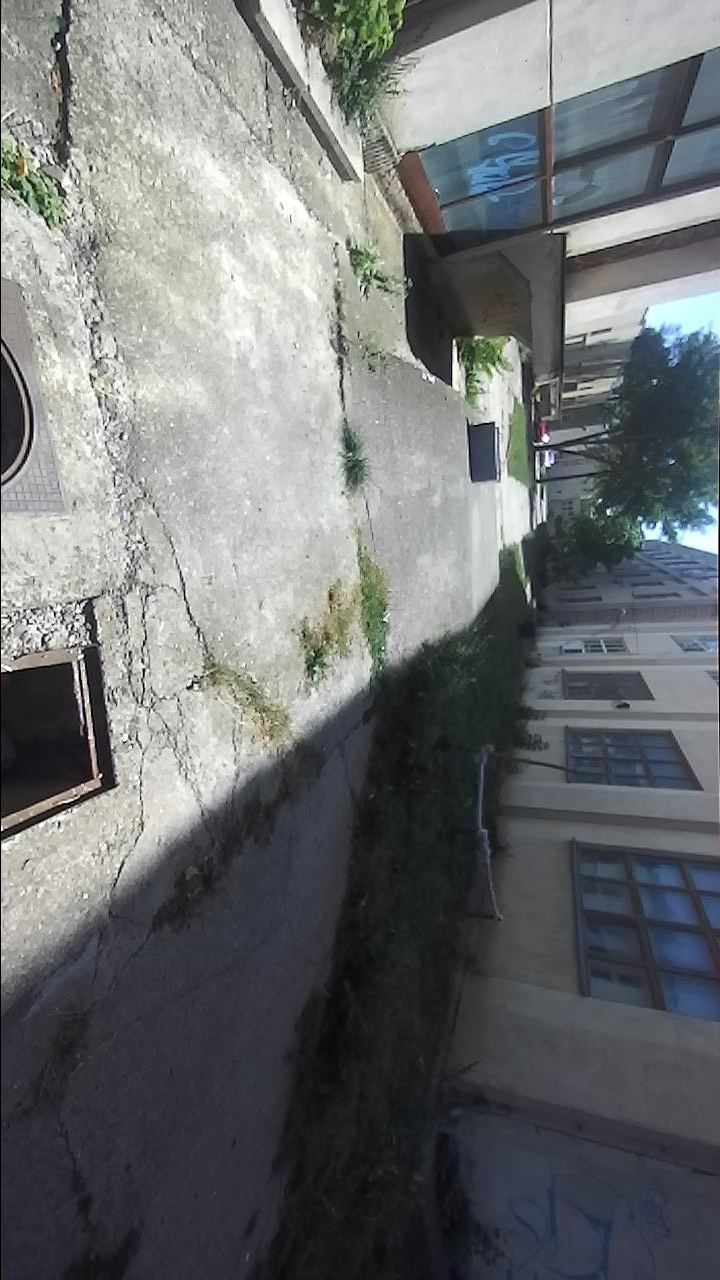drain: (1, 639, 121, 846), (0, 325, 37, 506)
